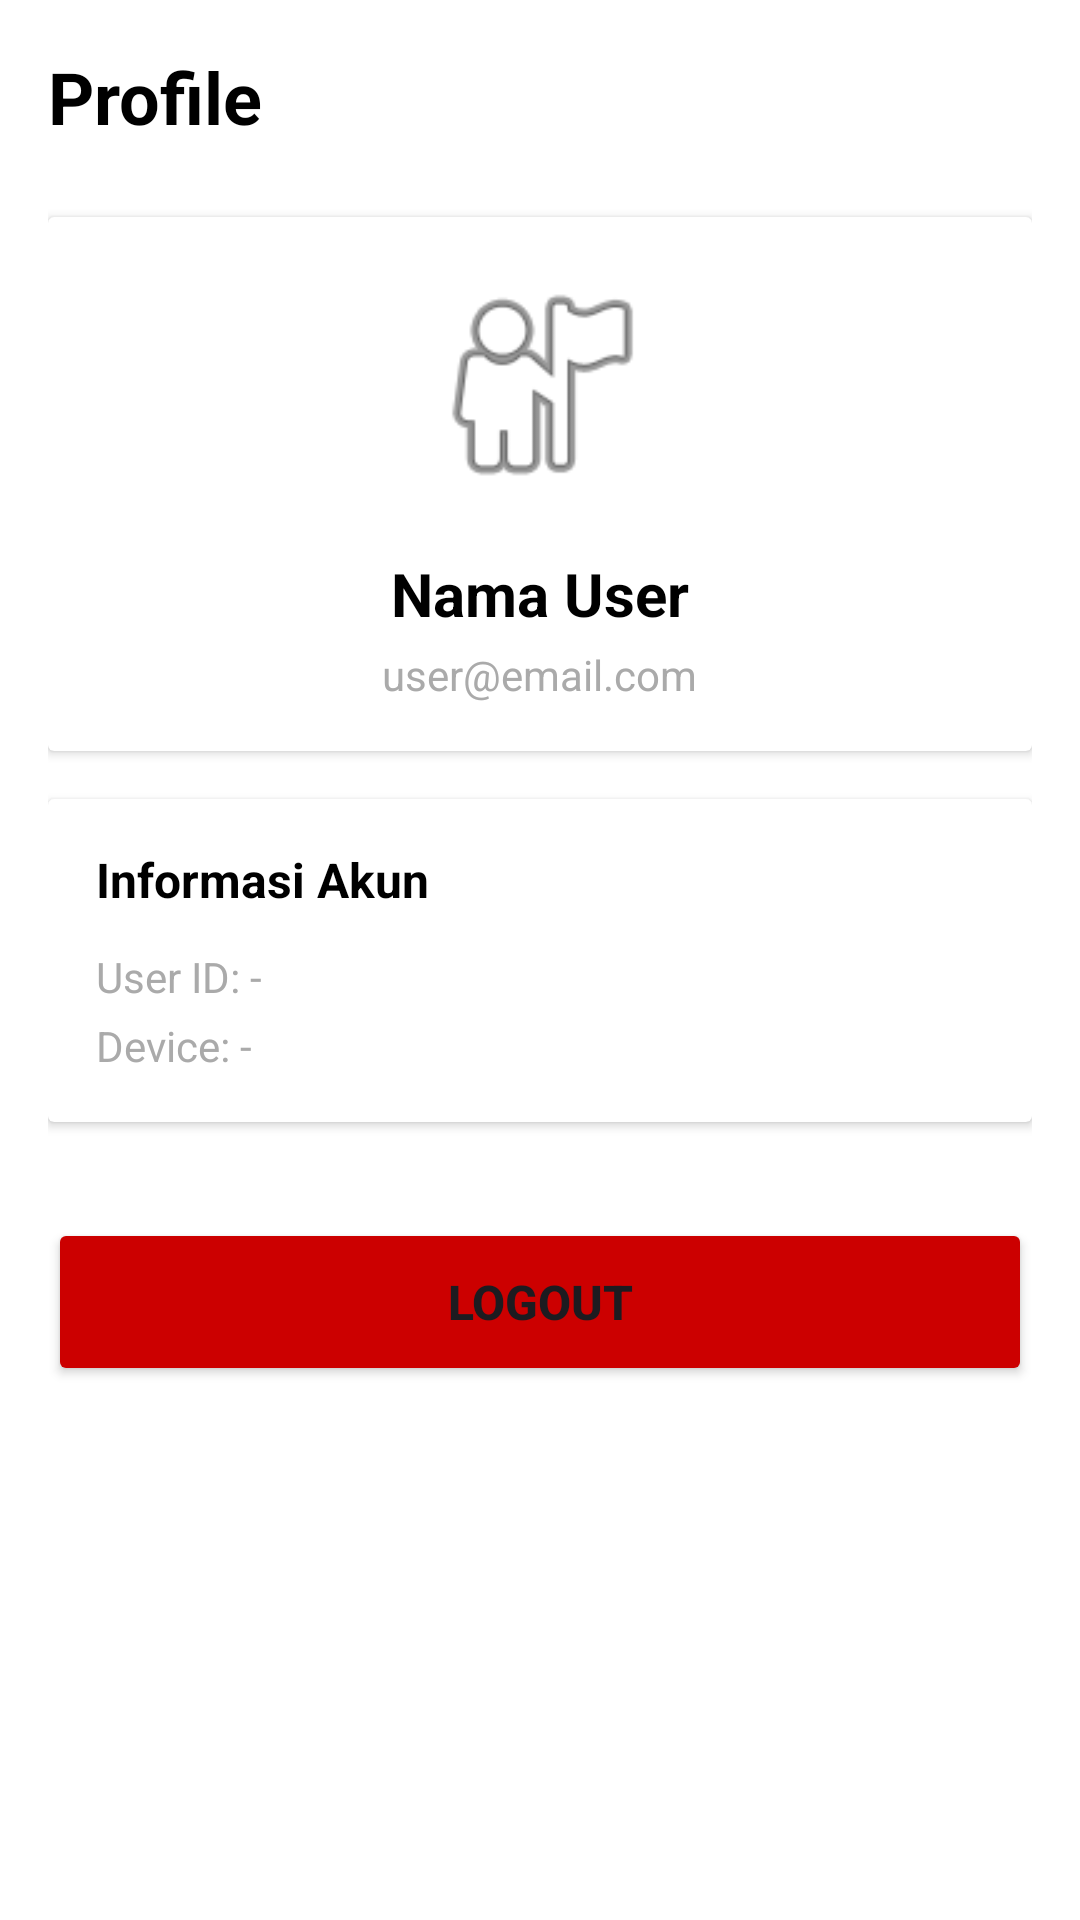

Icon click points for this 1080w x 1920h phone screenshot, format (x=x, y=y):
Profile: (x=542, y=385)
